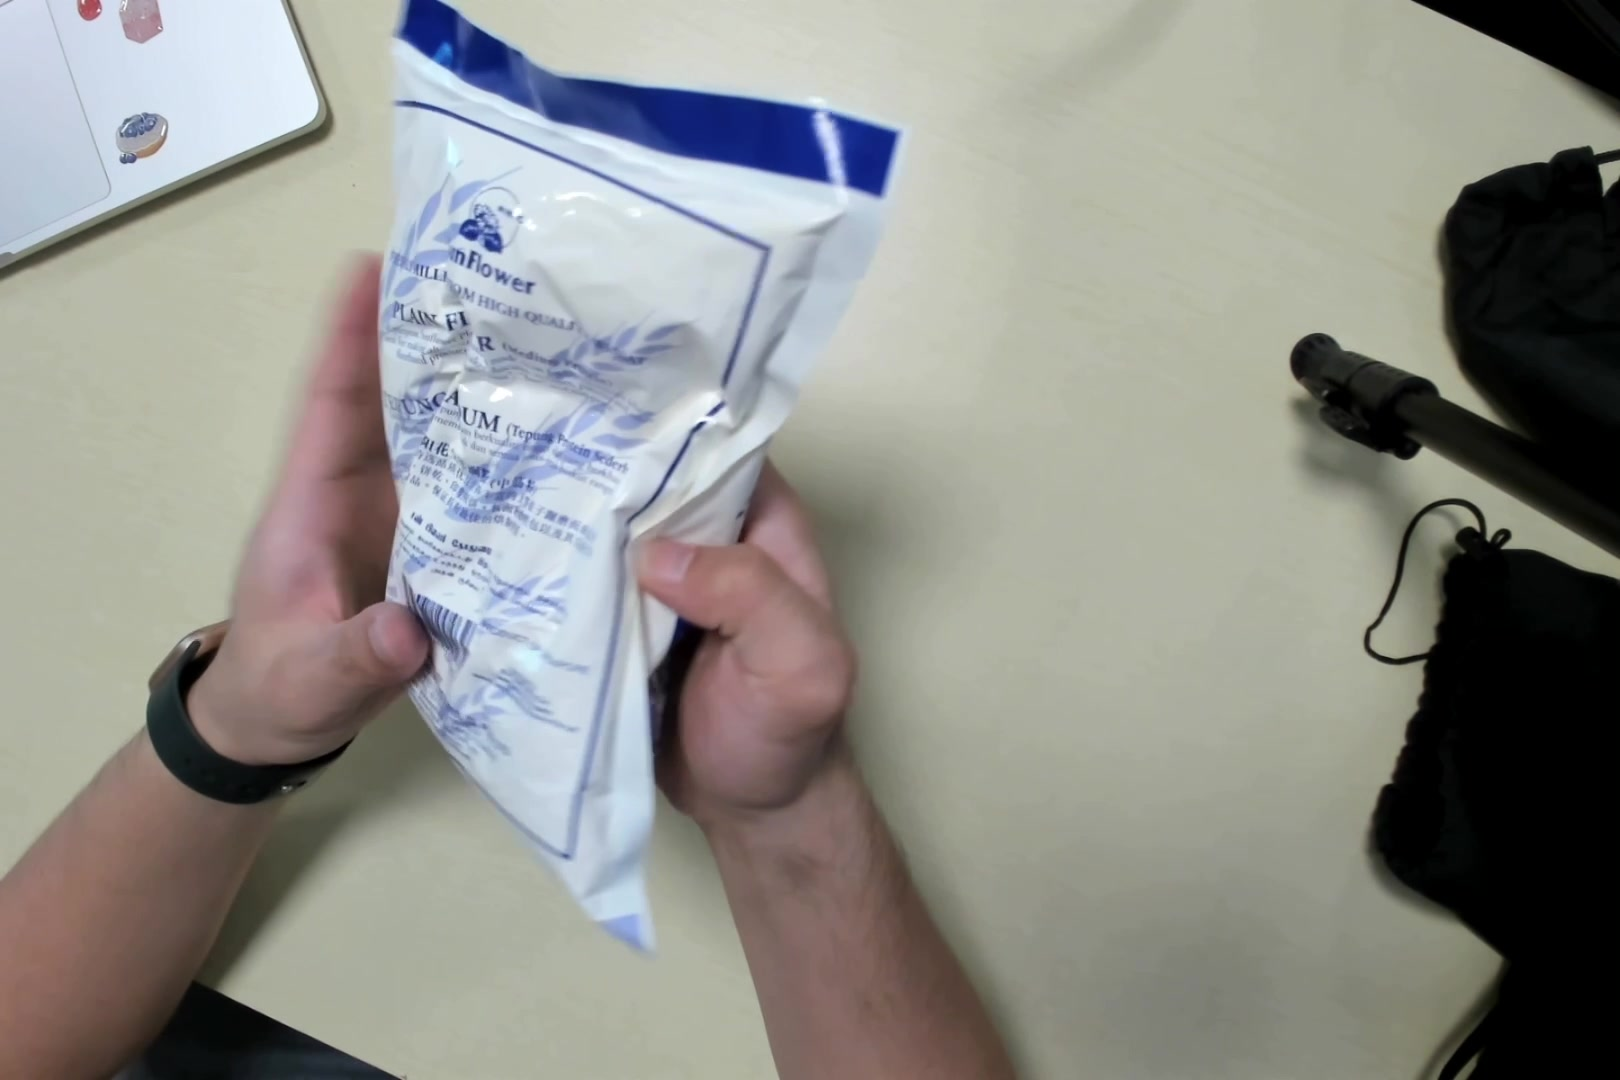Flour_500-599g_NonHalal_NonHealthy: (383, 34, 783, 963)
